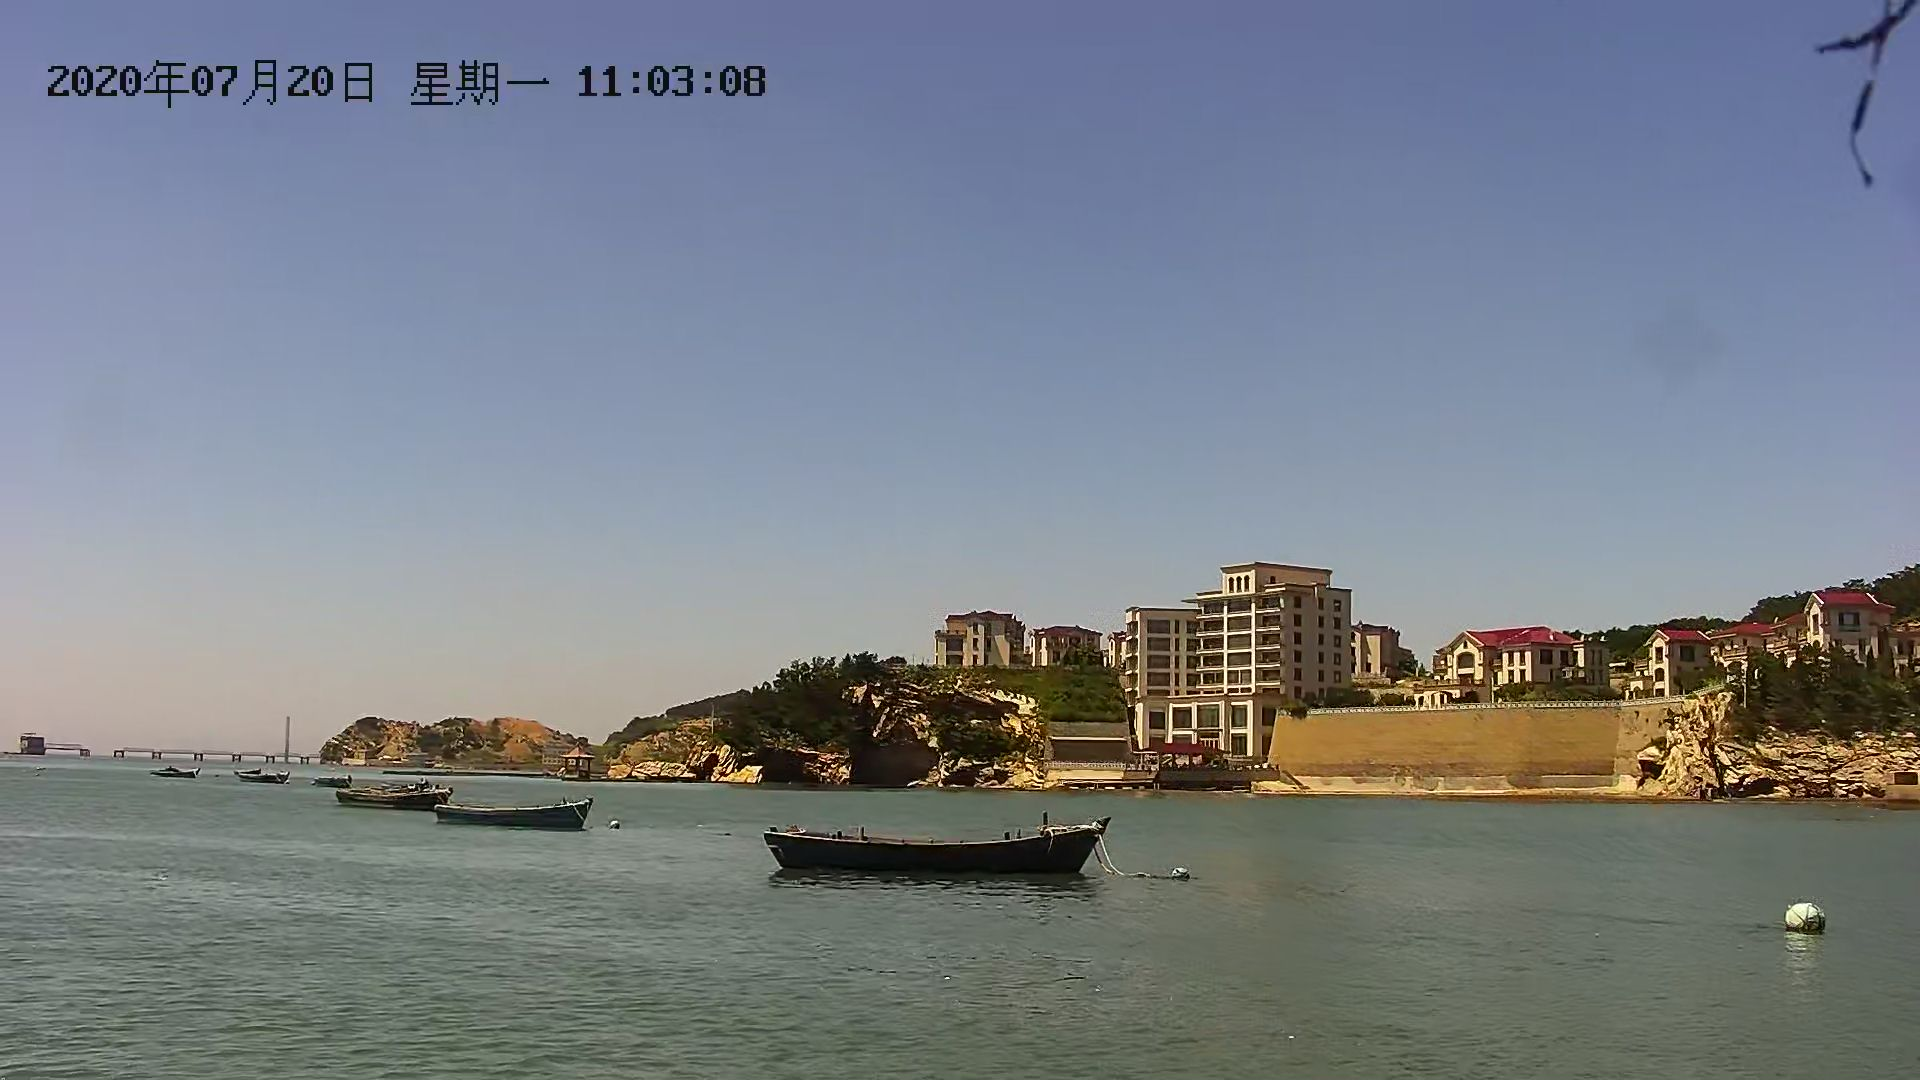boat: (762, 808, 1116, 893), (431, 796, 591, 843), (338, 781, 454, 812), (146, 761, 202, 785), (243, 765, 290, 789)
harbor: (7, 729, 338, 769)
rubbish: (1778, 901, 1836, 942)
